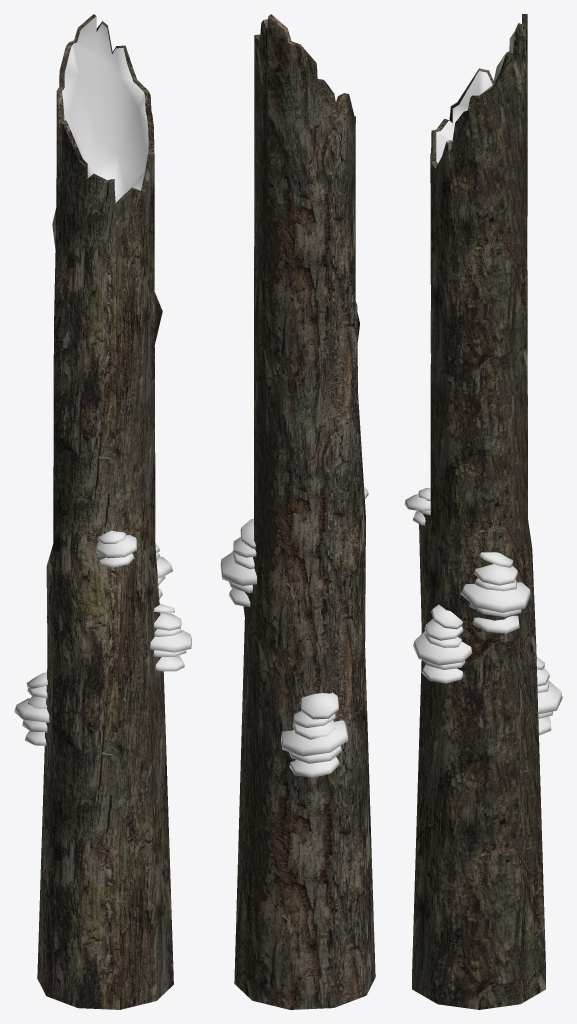
The model's file is trunks2.fbx.
3 renders of one model, left to right at view 1: azimuth 30°, elevation 25°; view 2: azimuth 150°, elevation 25°; view 3: azimuth 270°, elevation 25°, orthographic. The views are drawn at different scales.
Visible parts, largest first — view 1: polySurface360; view 2: polySurface360; view 3: polySurface360.
Boxes of the visible parts, left/top/right/bottom form: polySurface360: left=14, top=14, right=191, bottom=1009; polySurface360: left=220, top=14, right=375, bottom=1009; polySurface360: left=404, top=14, right=562, bottom=1009.
Size of the model in its own units: 7.26 by 49.37 by 7.28.
Materials: 3 (1 with a texture image).
